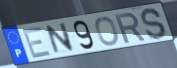9: (72, 20, 95, 51)
E: (21, 25, 53, 60)
N: (45, 21, 76, 56)
O: (94, 15, 120, 47)
R: (114, 11, 148, 45)
S: (139, 7, 168, 41)
